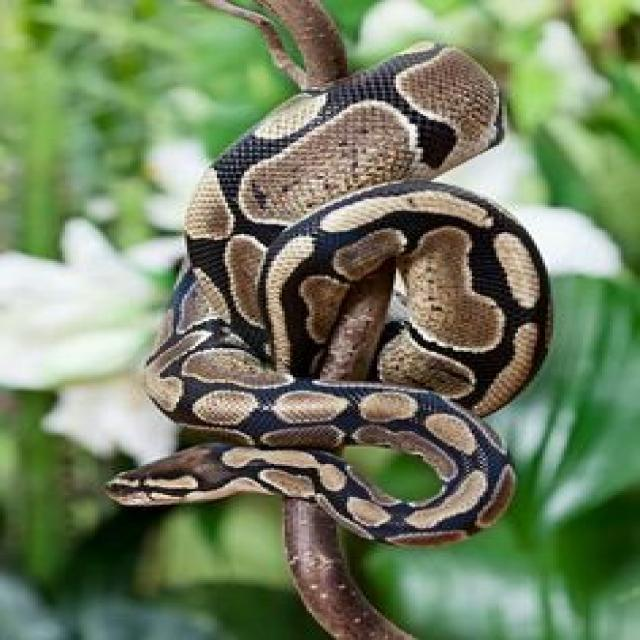Carnivorous: (103, 43, 553, 549)
